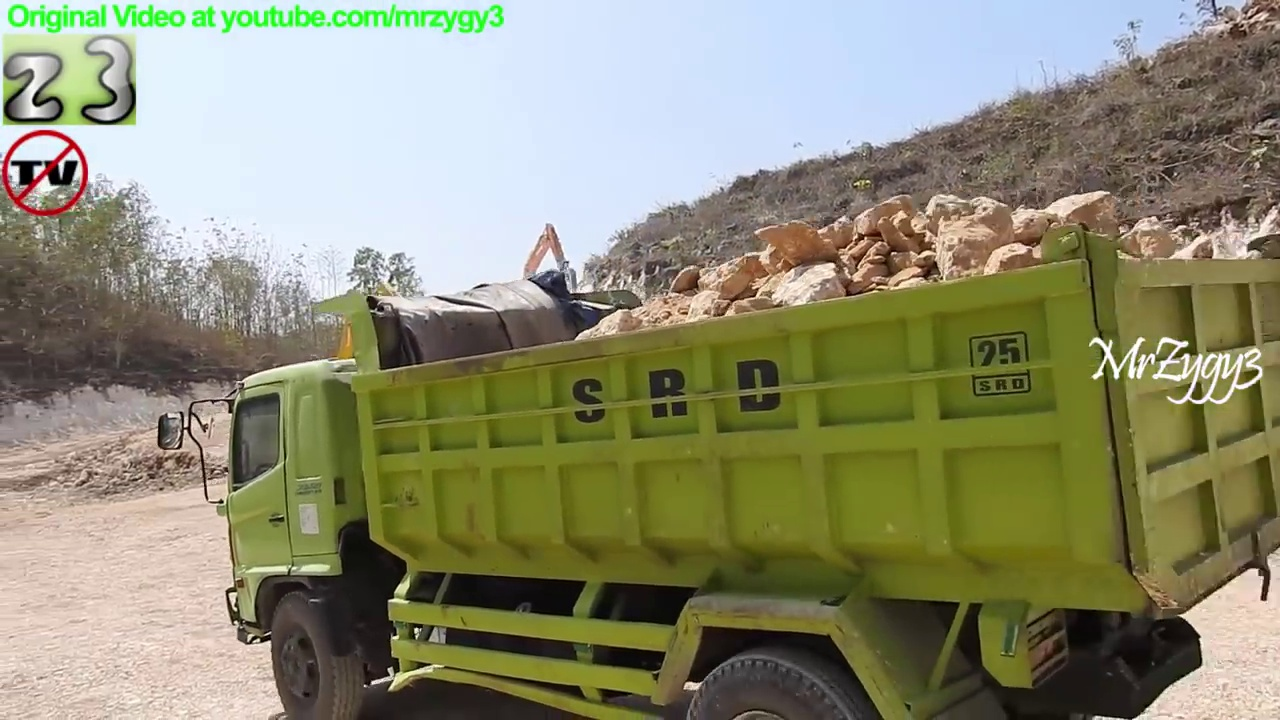excavator: (278, 275, 444, 433), (491, 217, 600, 357)
truck: (148, 216, 1280, 720)
